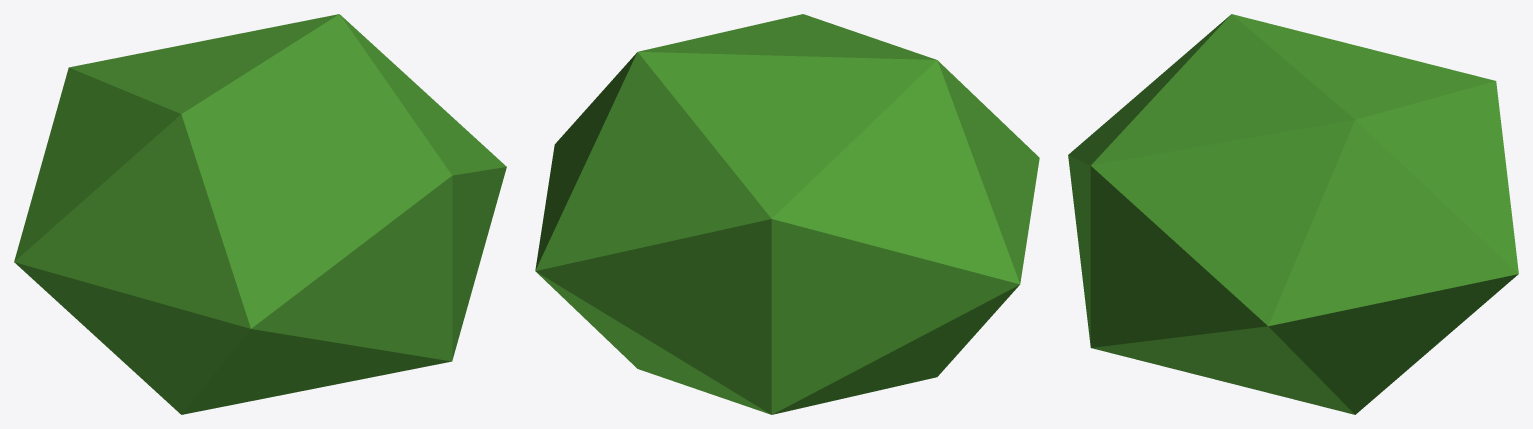
The model's file is bush_0.glb.
The picture shows the model from 3 angles, left to right: view 1: azimuth 30°, elevation 25°; view 2: azimuth 150°, elevation 25°; view 3: azimuth 270°, elevation 25°; orthographic projection. The views are drawn at different scales.
Visible parts, largest first — view 1: Bush; view 2: Bush; view 3: Bush.
Part boxes in pixels (x1,y1,x2,y2): Bush: (14,14,506,414); Bush: (535,14,1039,414); Bush: (1068,14,1518,414).
Size of the model in its own units: 1.49 by 0.9187 by 1.27.
